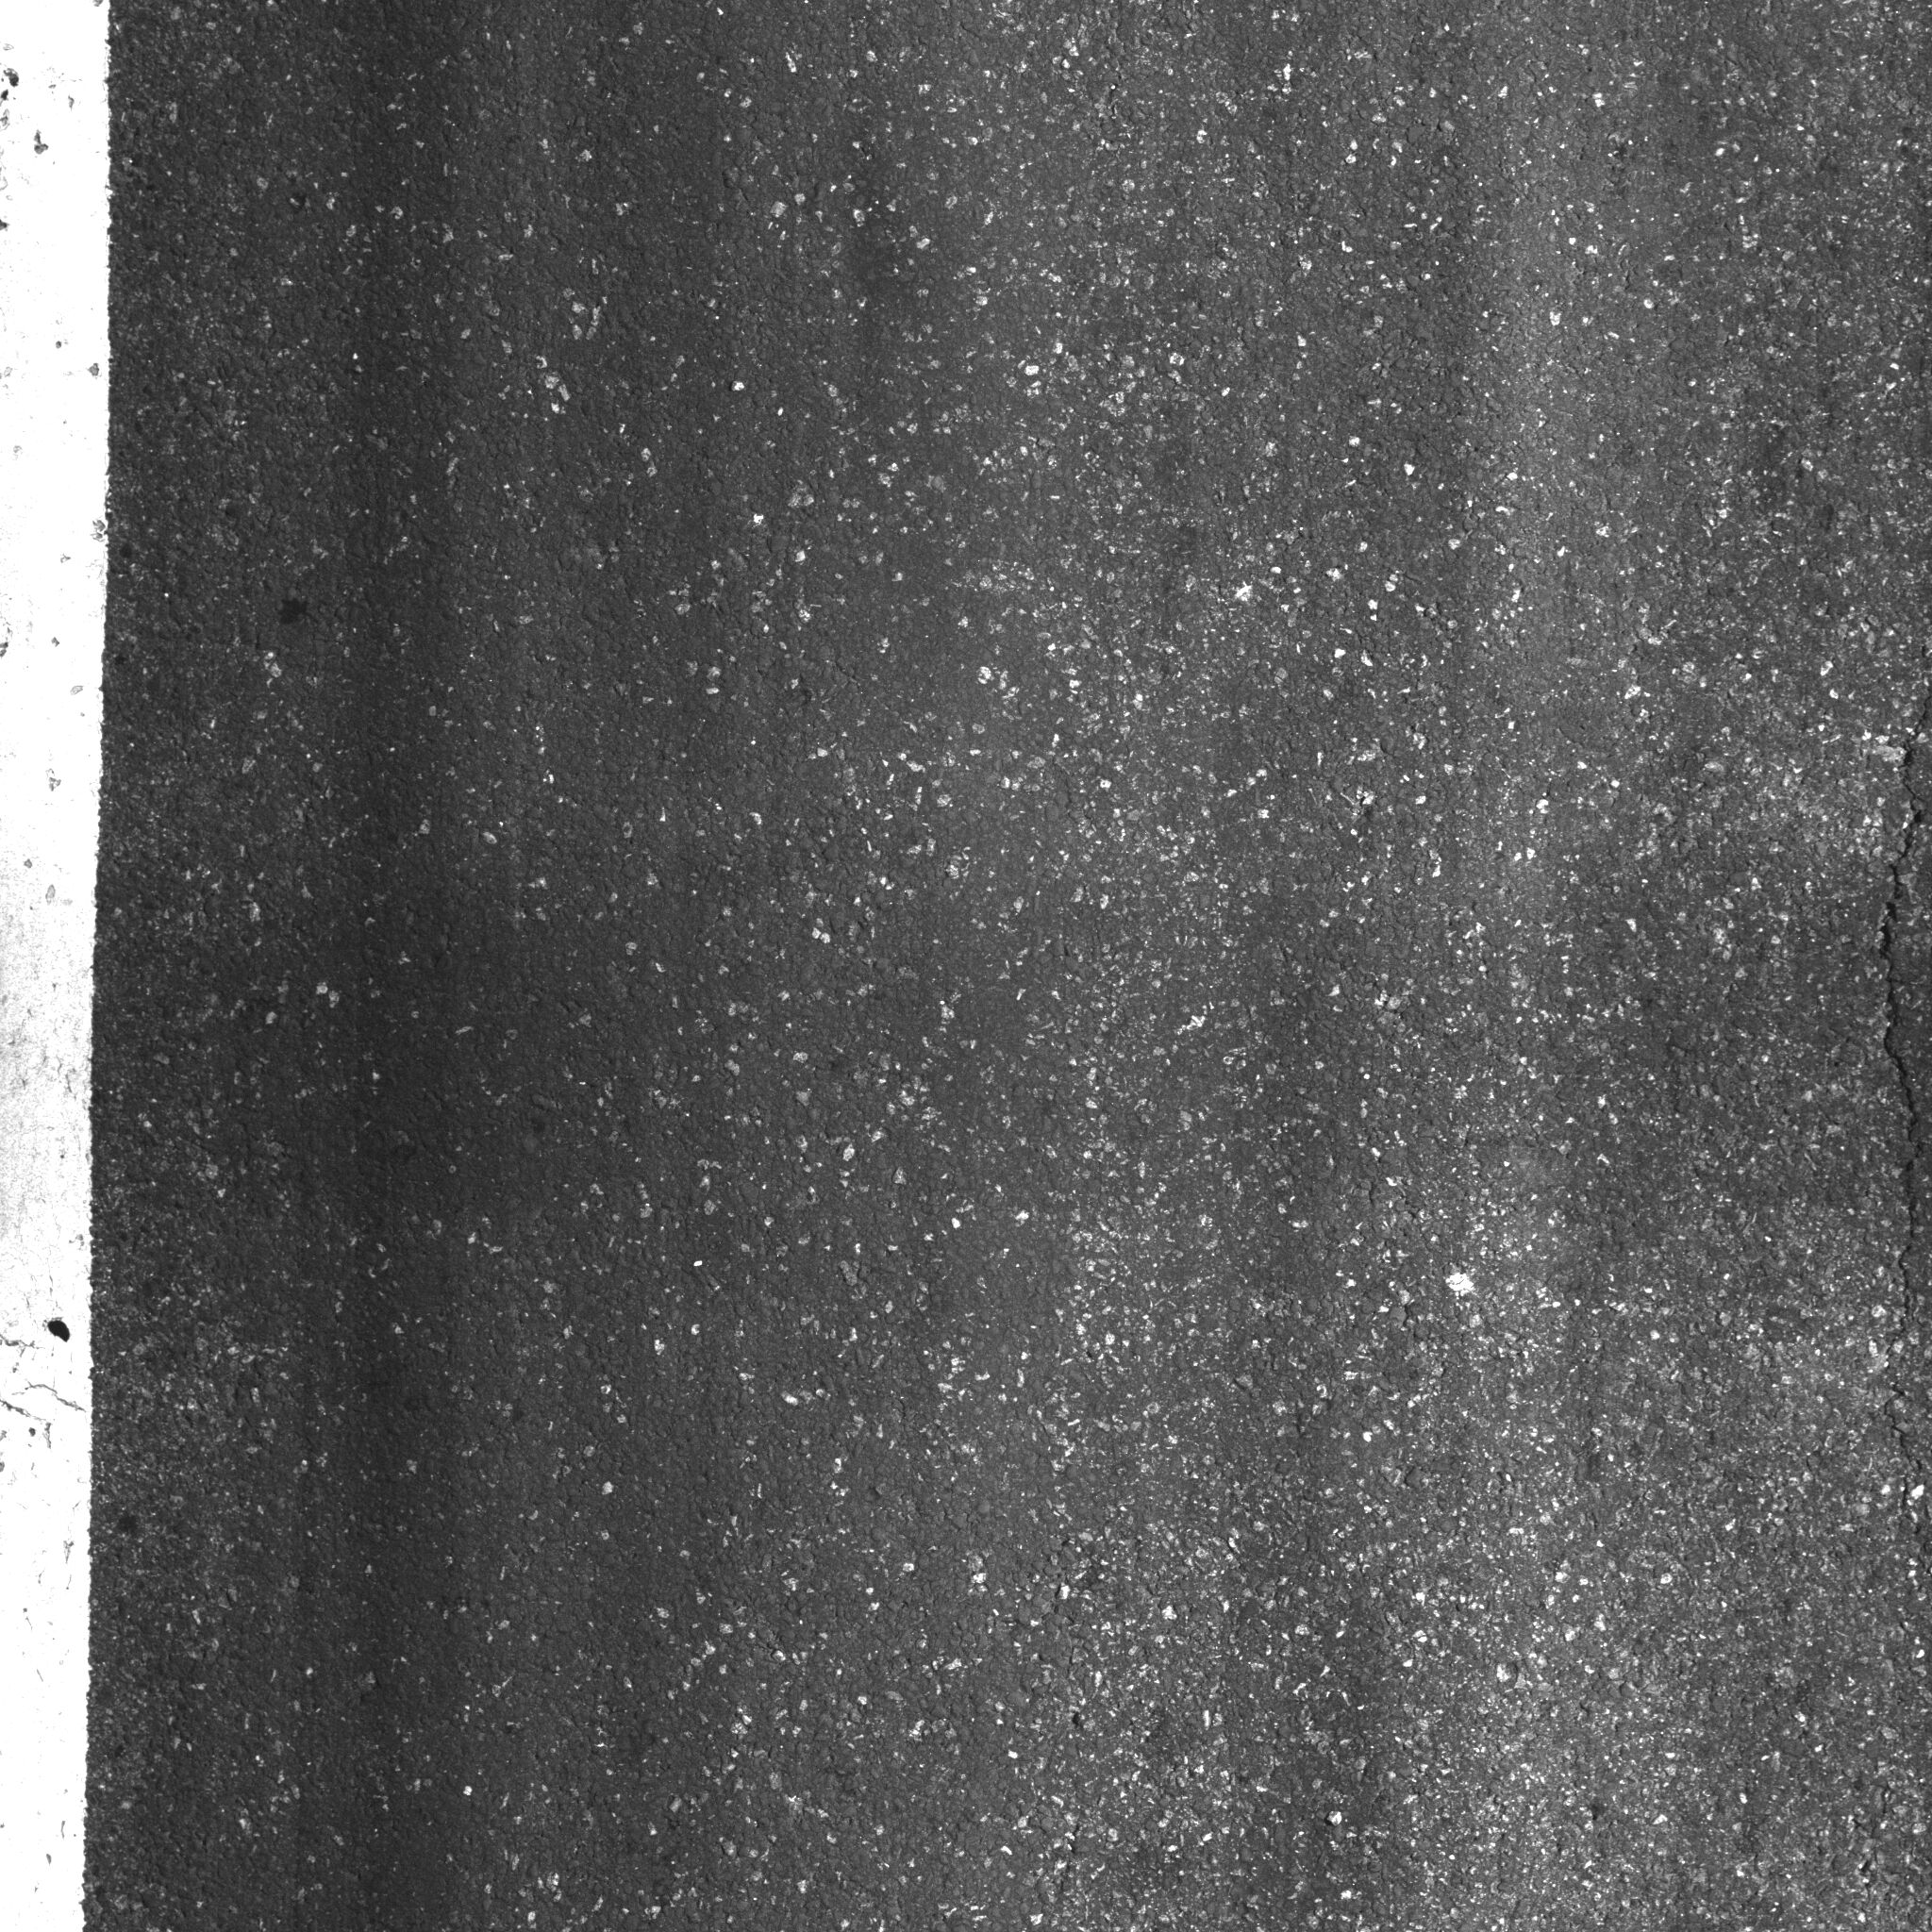longitudinal: (1872, 644, 1927, 1755)
